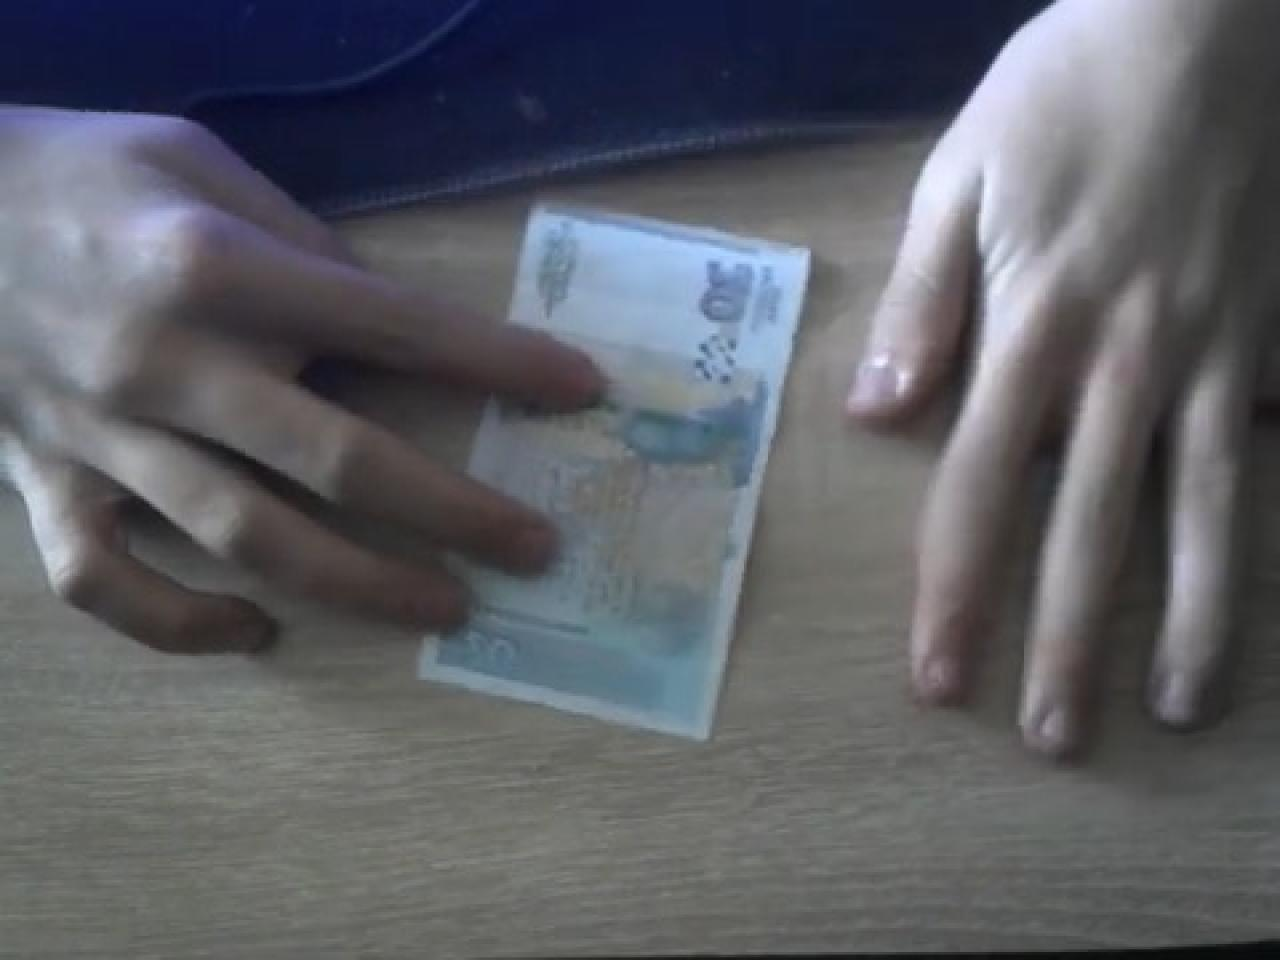20leva: (418, 203, 813, 744)
